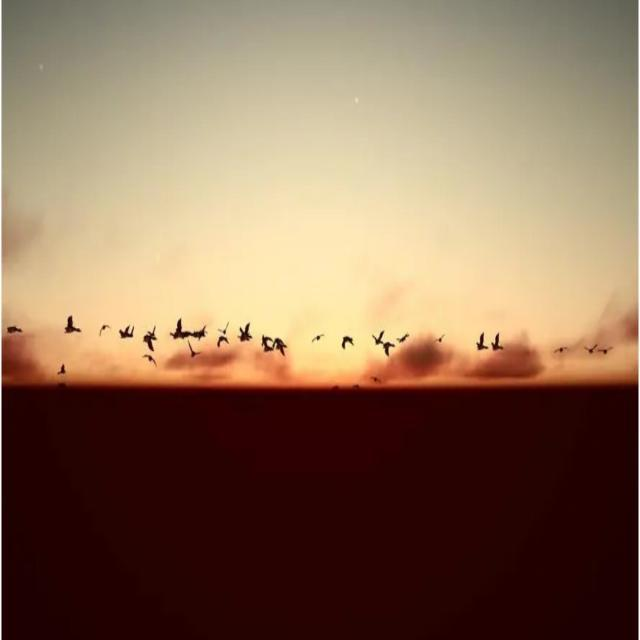bird: (578, 336, 598, 364), (61, 312, 81, 338), (432, 324, 448, 356), (488, 327, 504, 355), (472, 332, 488, 358), (335, 332, 355, 351), (598, 340, 616, 360), (381, 342, 399, 362), (55, 362, 73, 382), (552, 340, 568, 362), (310, 328, 326, 350), (95, 320, 112, 340), (118, 322, 132, 344), (140, 354, 160, 369), (398, 329, 414, 346), (187, 342, 202, 360), (371, 326, 384, 346), (216, 320, 230, 334), (217, 336, 231, 350)
